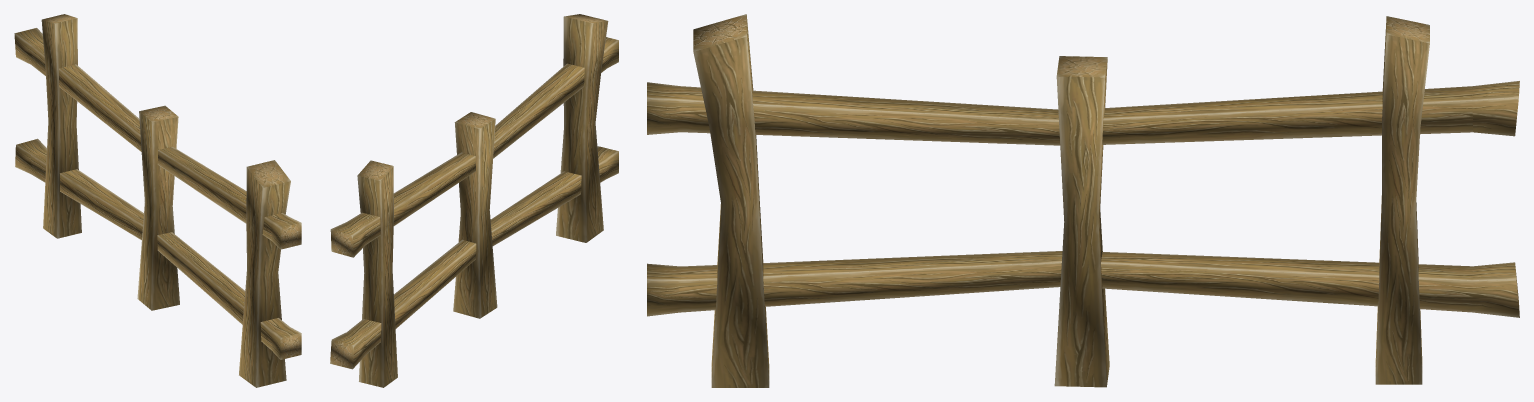
File: fence01.fbx
3 renders of one model, left to right at view 1: azimuth 30°, elevation 25°; view 2: azimuth 150°, elevation 25°; view 3: azimuth 270°, elevation 25°, orthographic. The views are drawn at different scales.
Parts seen in each view (by area): view 1: fence01; view 2: fence01; view 3: fence01.
Boxes of the visible parts, box(x1,y1,x2,y2) form: fence01: box(14, 14, 301, 387); fence01: box(330, 14, 618, 387); fence01: box(647, 14, 1519, 387).
Bounding box in the file's own units: 0.1886 × 1.27 × 2.86.
